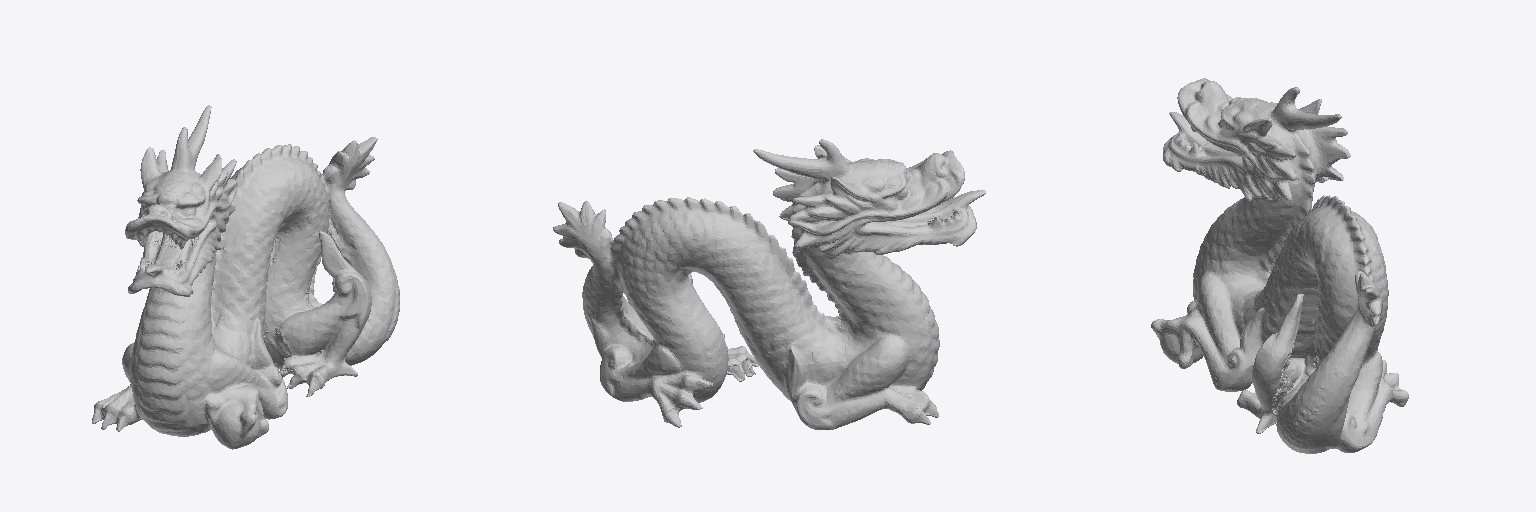
The model's file is dragon.obj.
The picture shows the model from 3 angles: view 1: azimuth 30°, elevation 25°; view 2: azimuth 150°, elevation 25°; view 3: azimuth 270°, elevation 25°; orthographic projection.
Size of the model in its own units: 72.23 by 57.18 by 48.39.